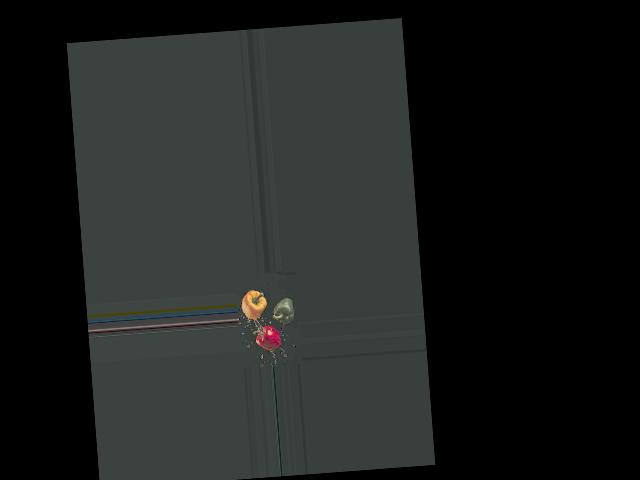bell_pepper: (248, 319, 286, 351)
